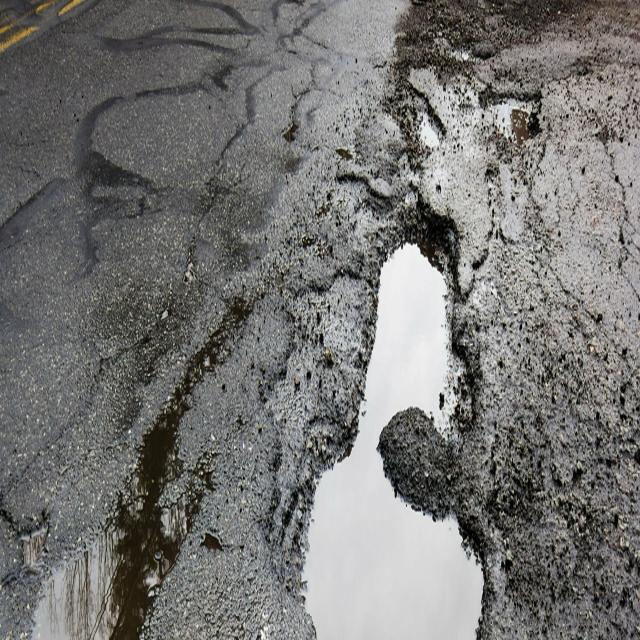Pothole: (127, 42, 579, 640)
